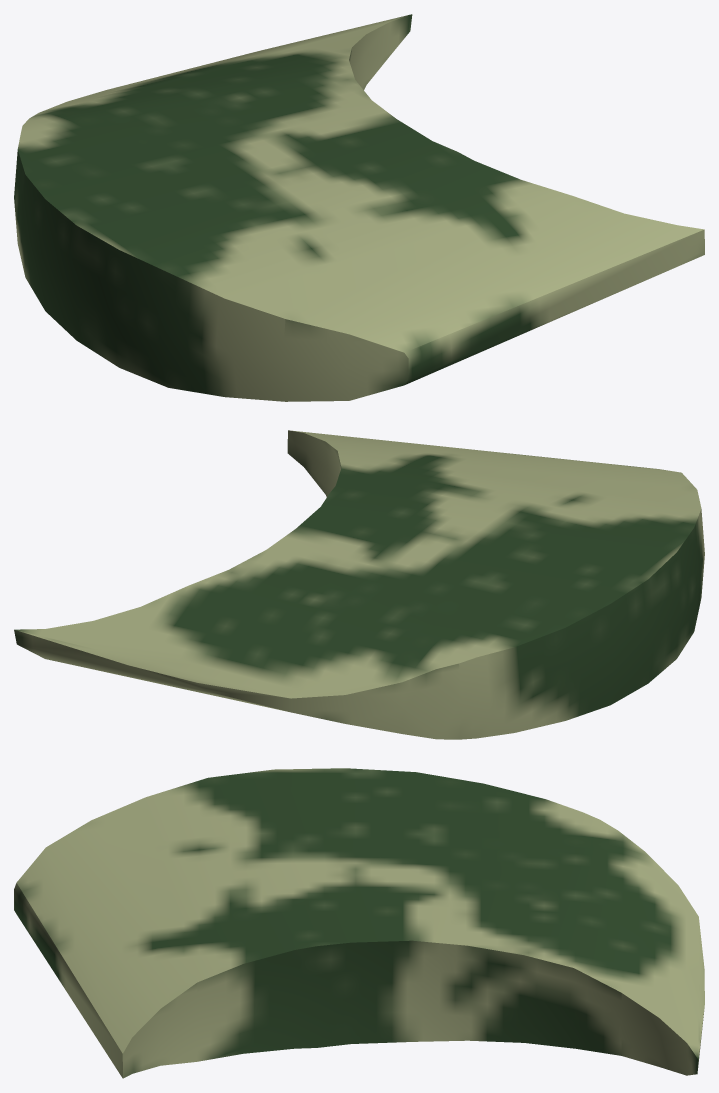
Rendered from link_body_37.obj.
3 renders of one model, top to bottom at view 1: azimuth 30°, elevation 25°; view 2: azimuth 150°, elevation 25°; view 3: azimuth 270°, elevation 25°, orthographic. The views are drawn at different scales.
Visible parts, largest first — view 1: link_body_37; view 2: link_body_37; view 3: link_body_37.
Boxes of the visible parts, box(x1,y1,x2,y2) form: link_body_37: box(14, 14, 704, 401); link_body_37: box(14, 430, 704, 739); link_body_37: box(14, 768, 704, 1078).
Size of the model in its own units: 6.58 by 1.42 by 7.78.
